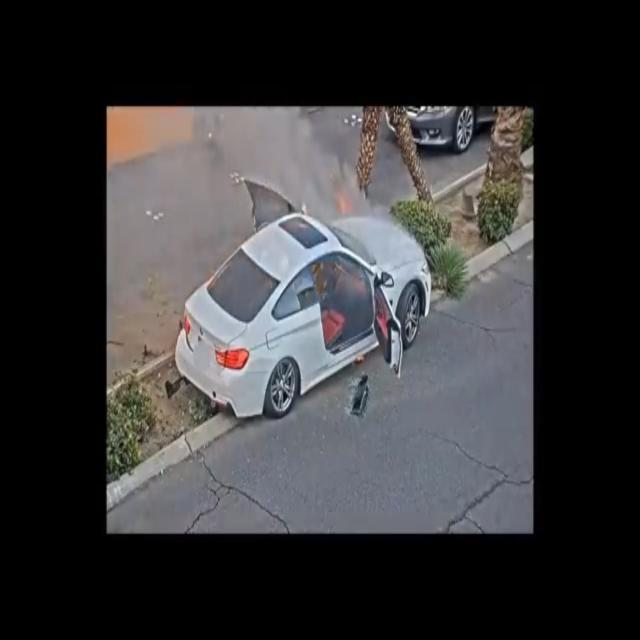fire: (329, 177, 356, 220)
